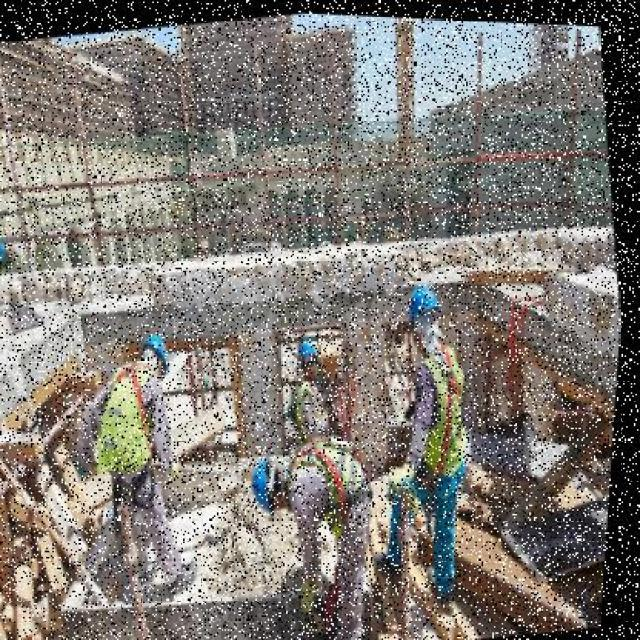helmet: (254, 449, 283, 504), (411, 279, 445, 314), (150, 326, 178, 364), (299, 332, 325, 354)
vest: (92, 360, 170, 482), (415, 342, 479, 473), (296, 430, 372, 517)
